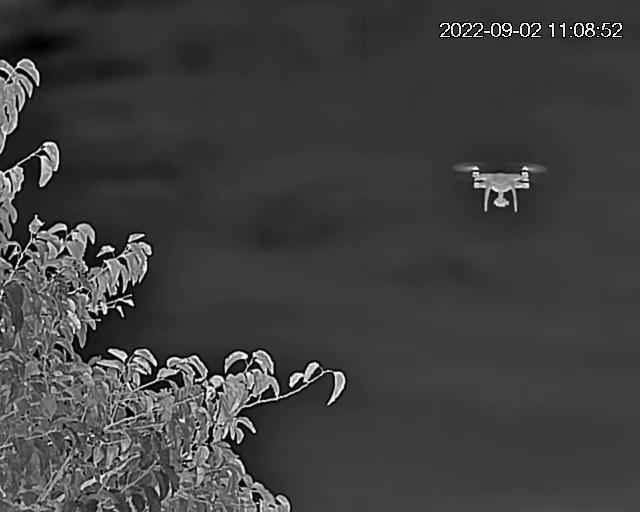DJI-Phantom: (454, 159, 549, 212)
